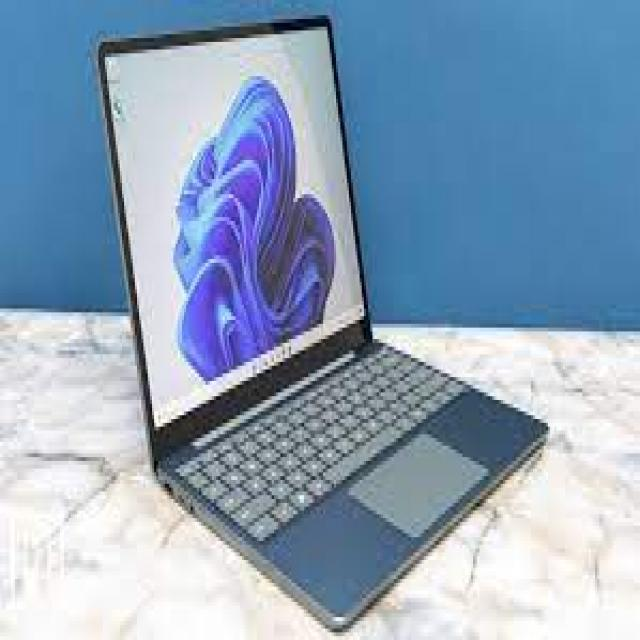others: (79, 15, 576, 629)
